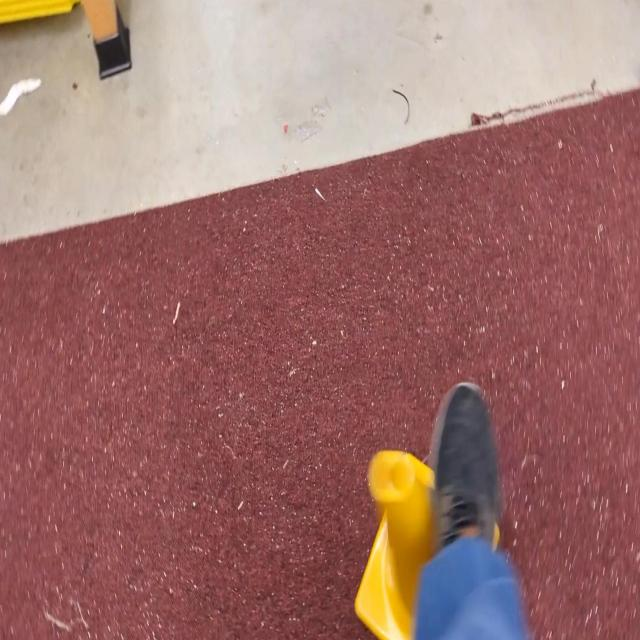frc_cone: (352, 448, 434, 640)
